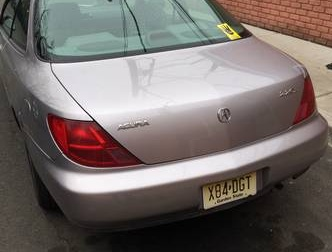acura: (1, 1, 332, 223)
